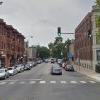Crosswalk: (8, 76, 97, 93)
